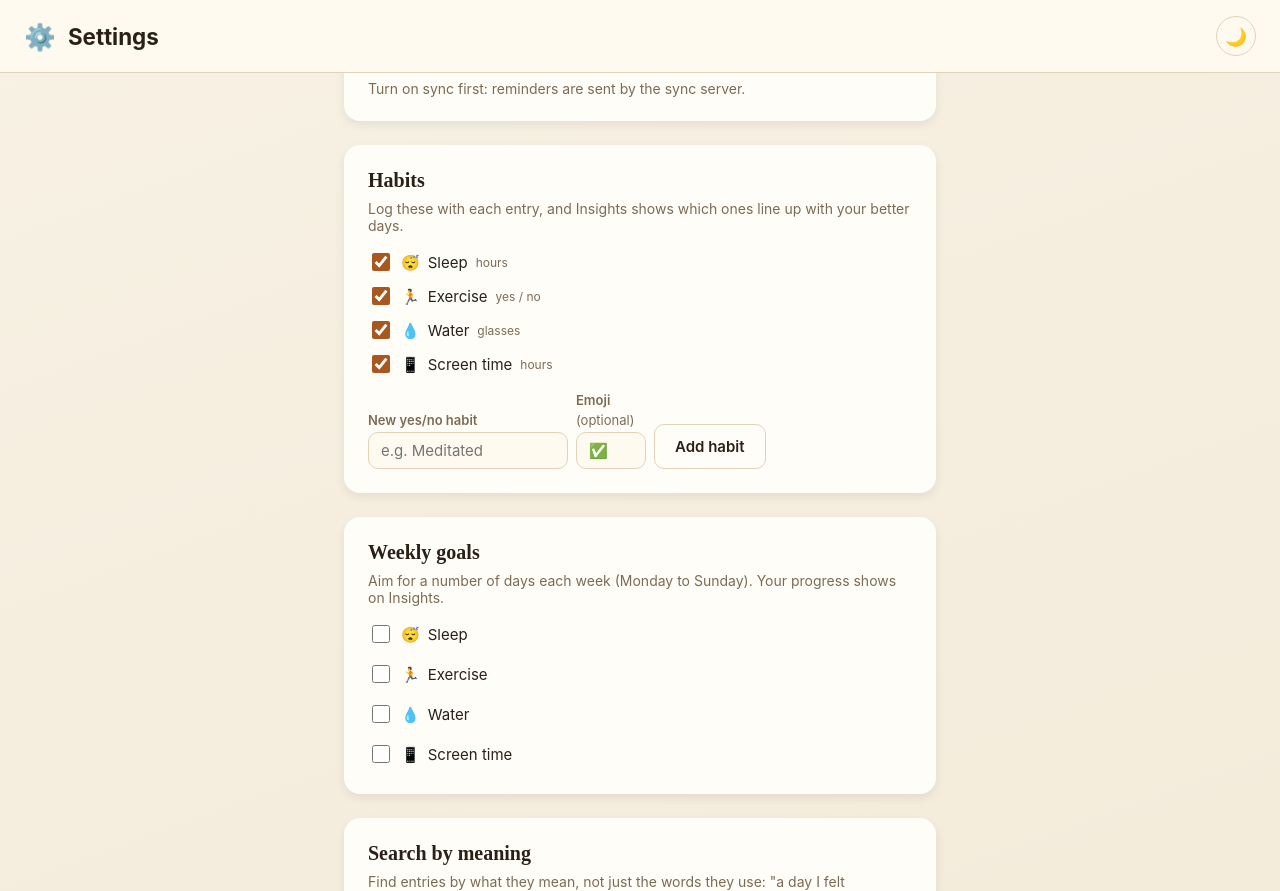
Habits › keeps habit settings encrypted across turning the lock on
The image size is (1280, 891).
(page scrolled)
Type "Therapy" into the field labelled "New yes/no habit" at [468, 450], box [368, 432, 568, 469]
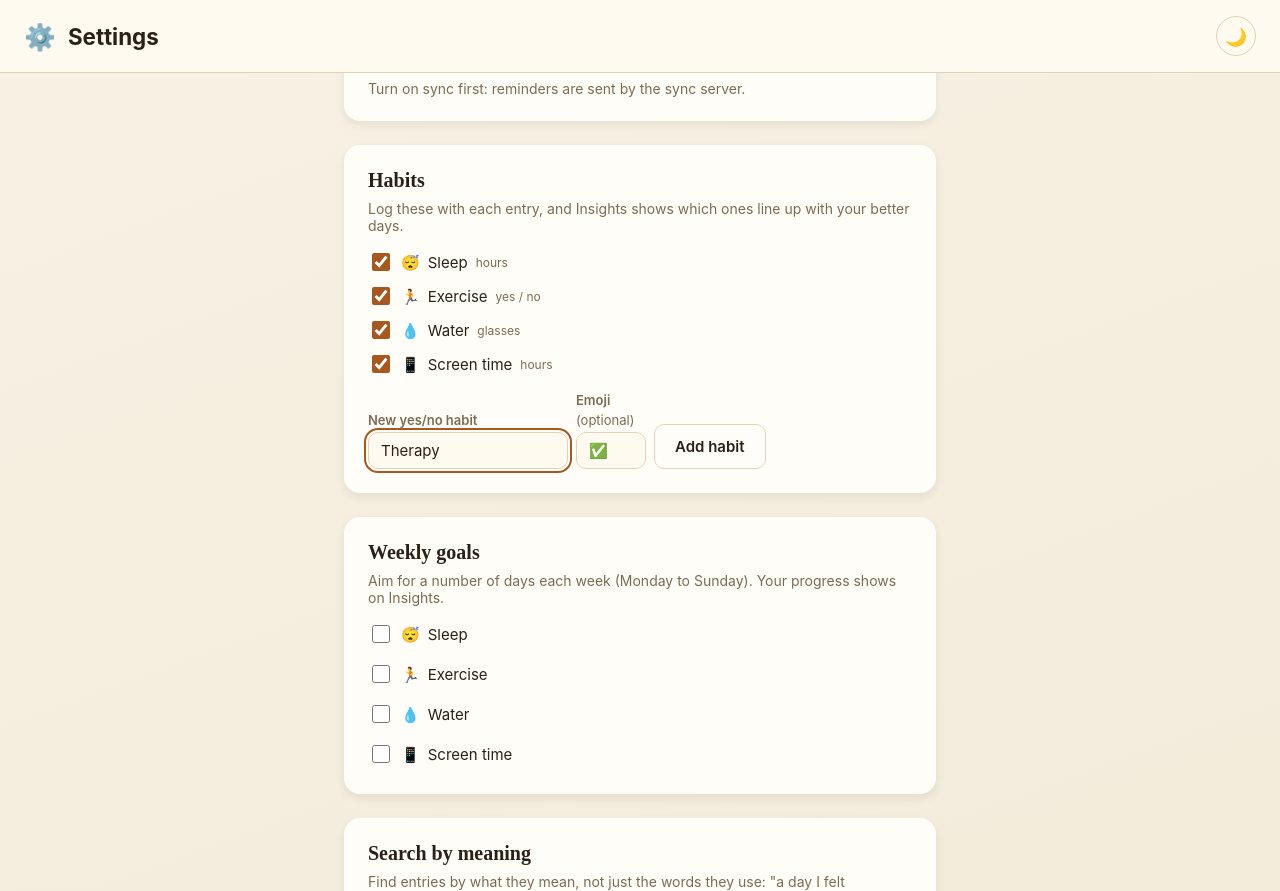
Click the button "Add habit" at [710, 446], box [654, 424, 766, 469]
(page scrolled)
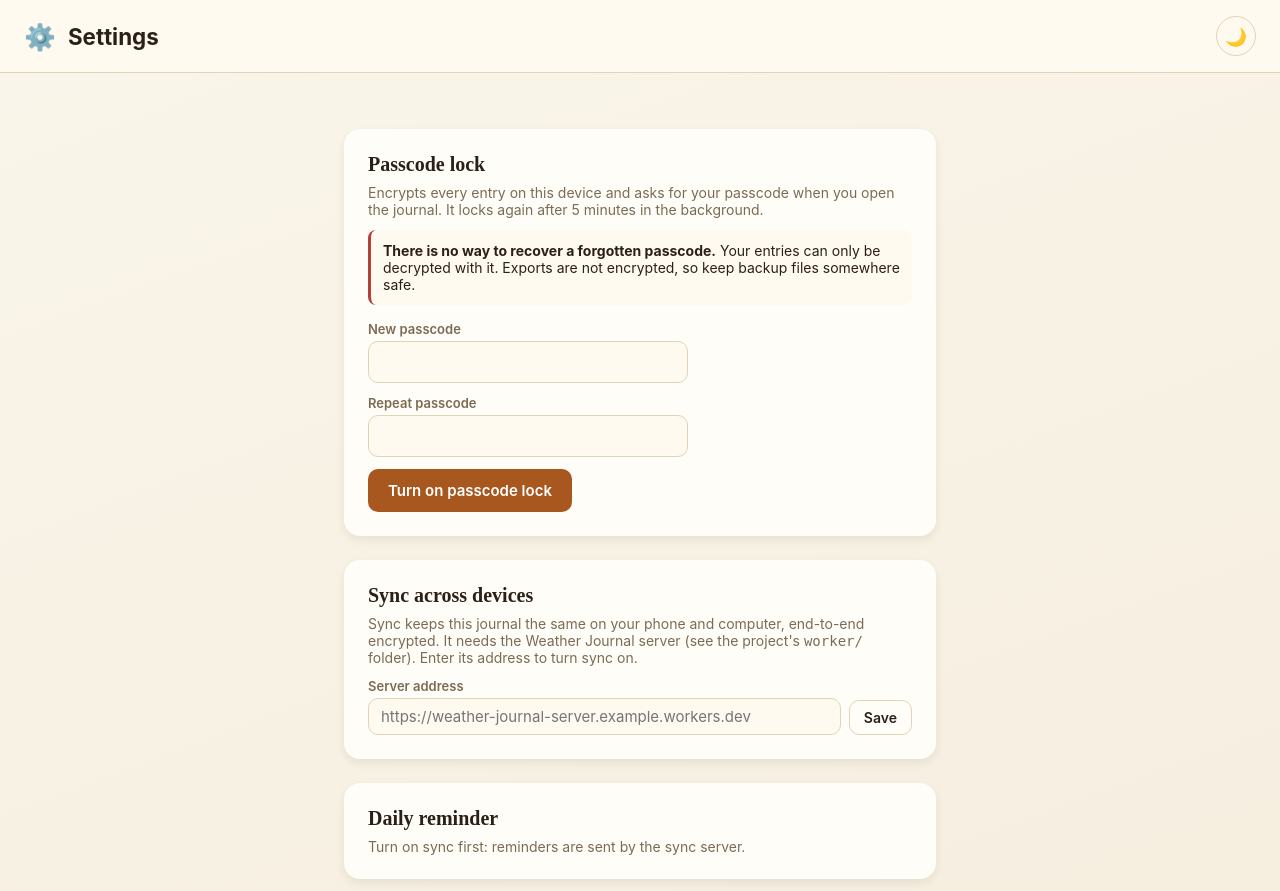
Type "2468" into the password field labelled "New passcode" at [528, 362], box [368, 341, 688, 383]
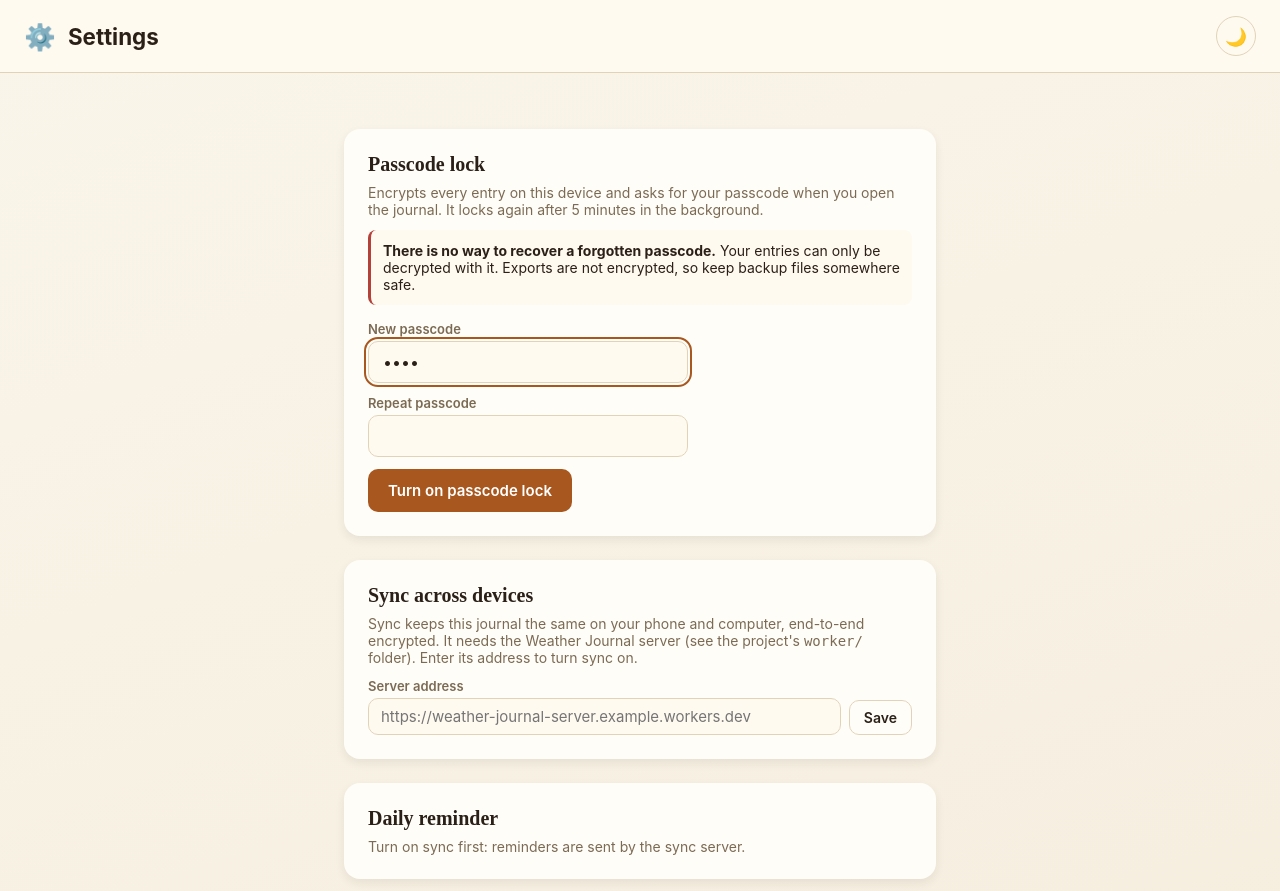
Type "2468" into the password field labelled "Repeat passcode" at [528, 436], box [368, 415, 688, 457]
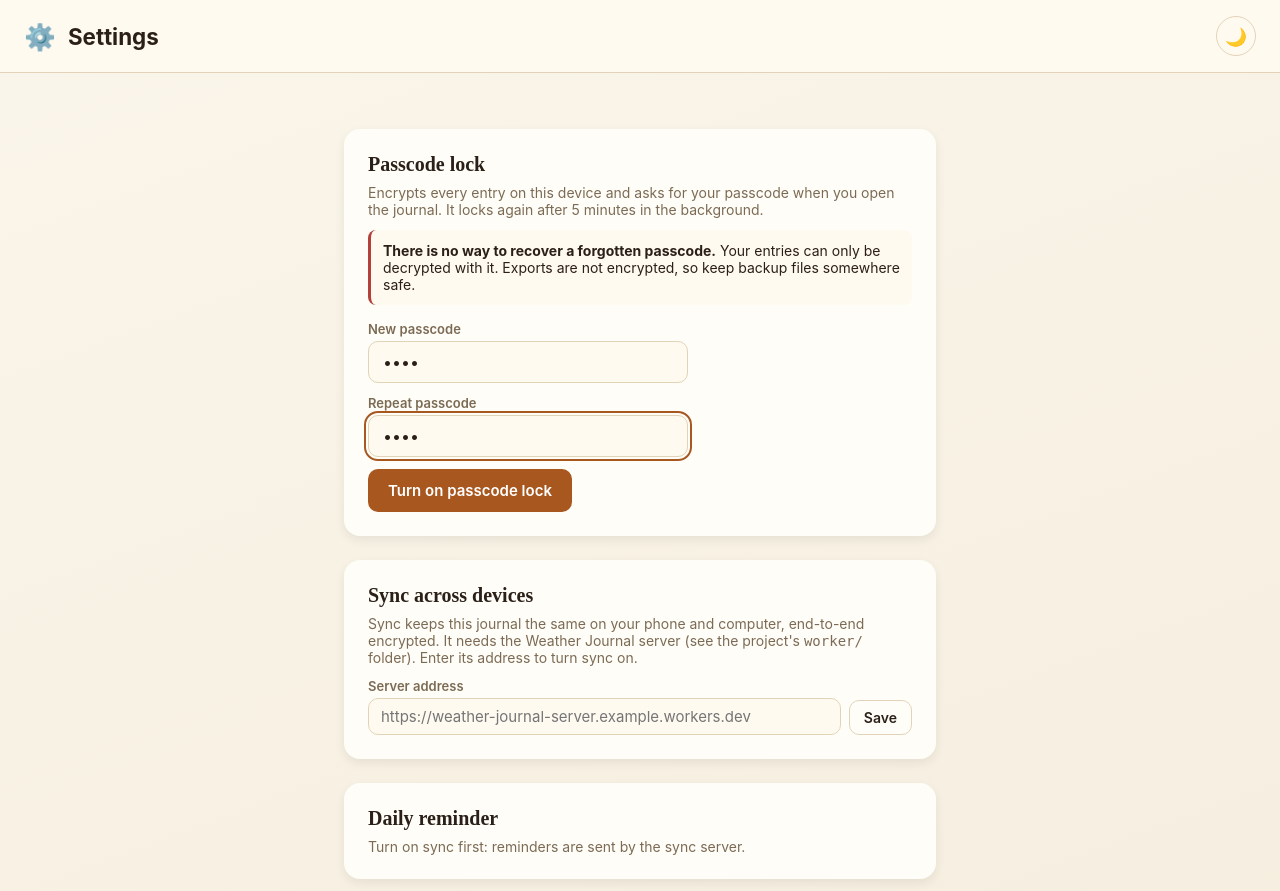
Click the button "Turn on passcode lock" at [470, 490], box [368, 469, 572, 512]
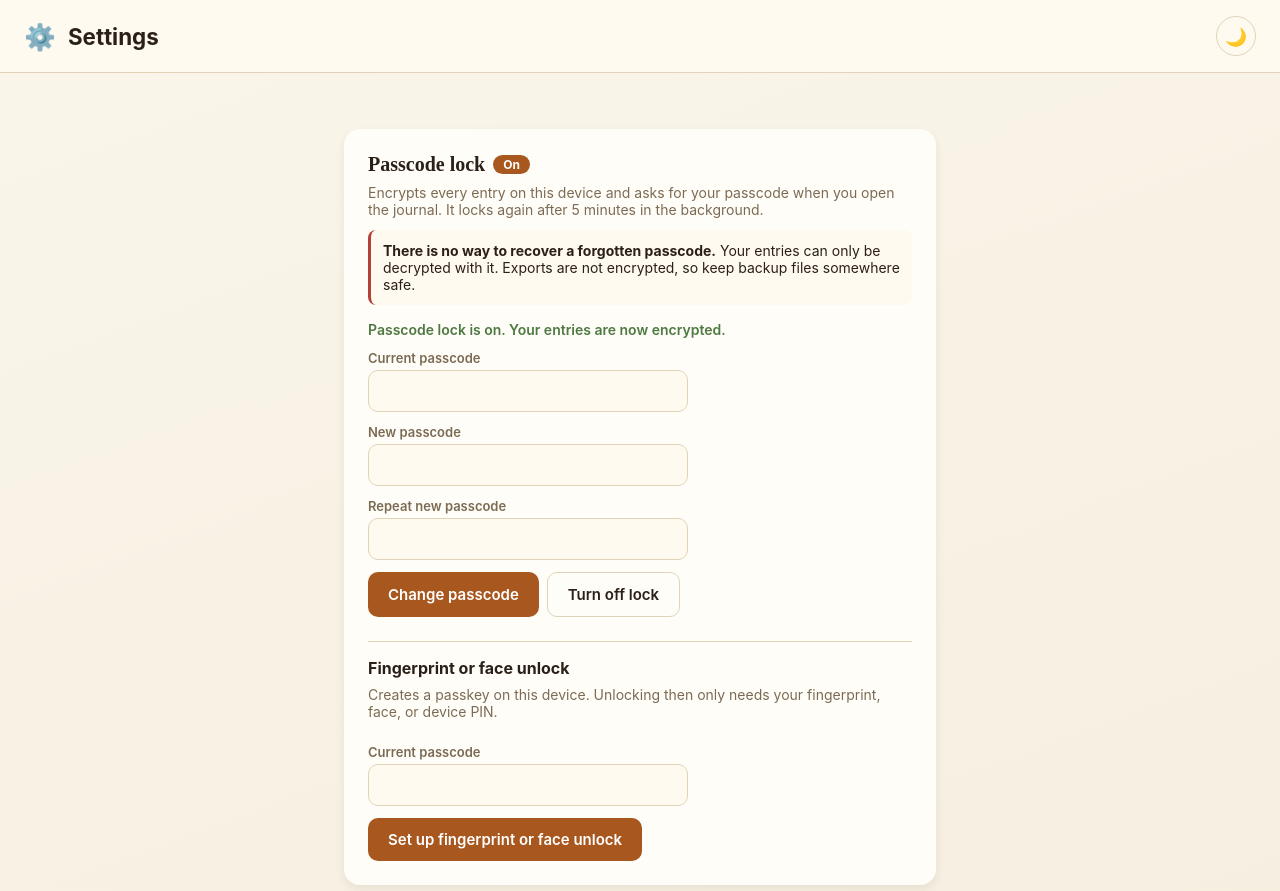
Result: the text "Passcode lock is on. Your entries are now encrypted." is shown at [368, 321, 726, 338]
